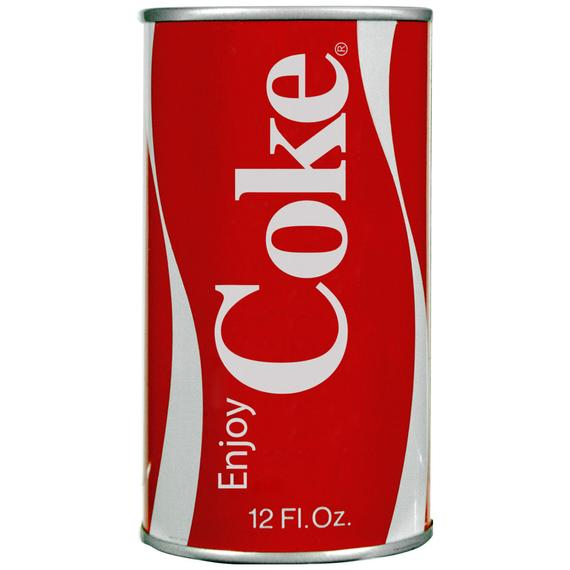coke: (212, 41, 366, 412)
